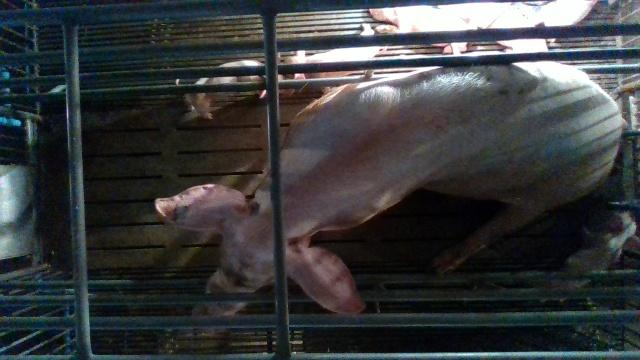piglet: (534, 209, 640, 301), (175, 58, 295, 121), (435, 3, 550, 50), (368, 5, 472, 54), (281, 46, 382, 95), (510, 0, 601, 27)
sow-sit: (156, 54, 626, 331)
